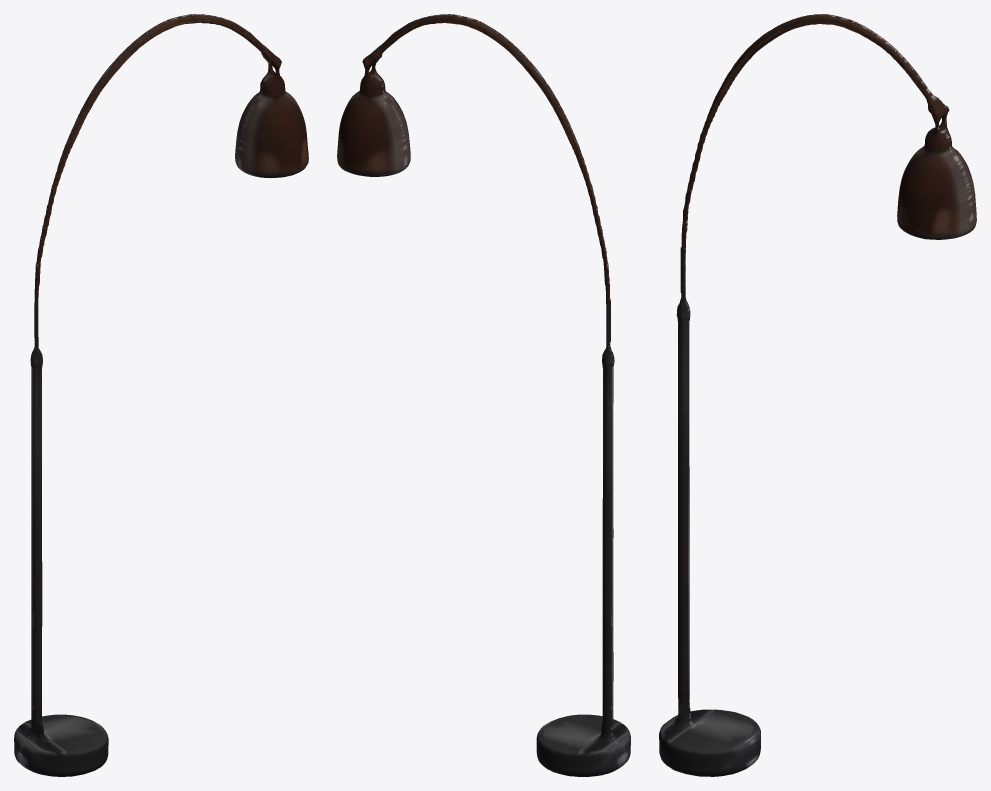
Rendered from arc-lamp.glb.
3 renders of one model, left to right at view 1: azimuth 30°, elevation 25°; view 2: azimuth 150°, elevation 25°; view 3: azimuth 330°, elevation 25°, orthographic. The views are drawn at different scales.
Parts seen in each view (by area): view 1: Mesh_0; view 2: Mesh_0; view 3: Mesh_0.
Part boxes in pixels (box(x1,y1,x2,y2)): Mesh_0: box(14, 14, 308, 776); Mesh_0: box(337, 14, 630, 776); Mesh_0: box(659, 14, 976, 776).
Size of the model in its own units: 0.7092 by 1.7 by 0.2081.
Materials: 1 (1 with a texture image).
